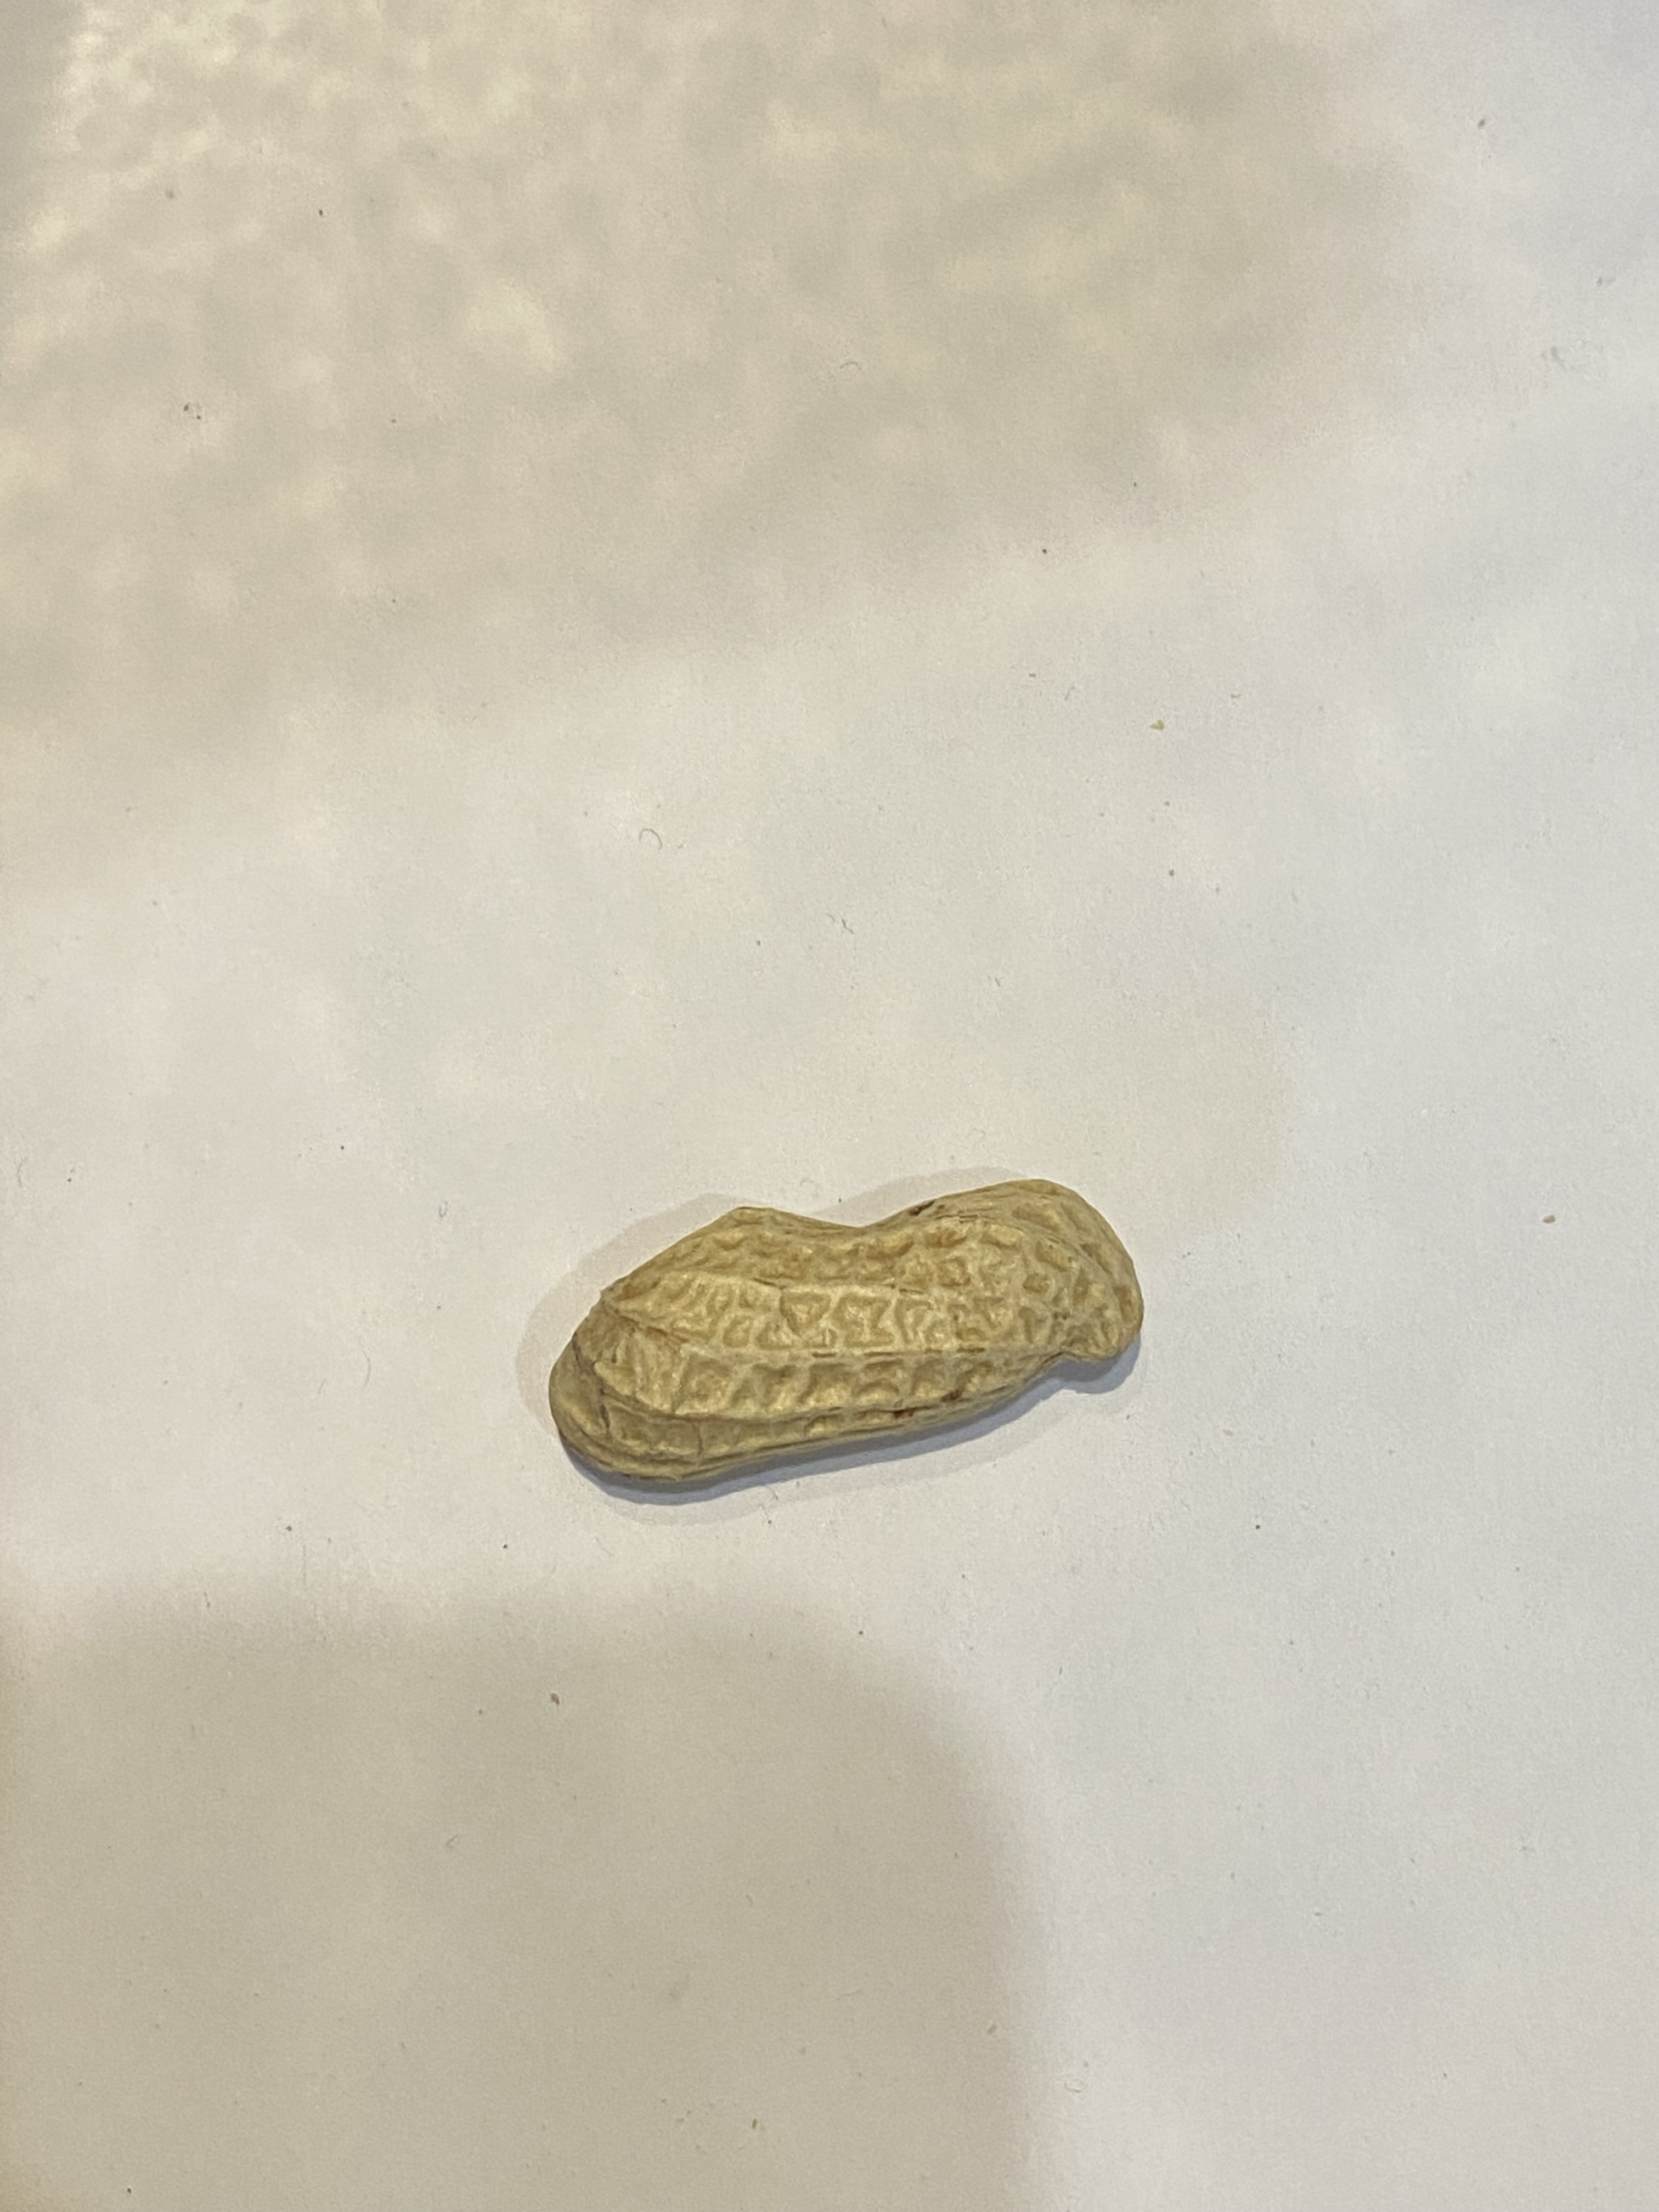kacang2: (530, 1141, 1157, 1507)
